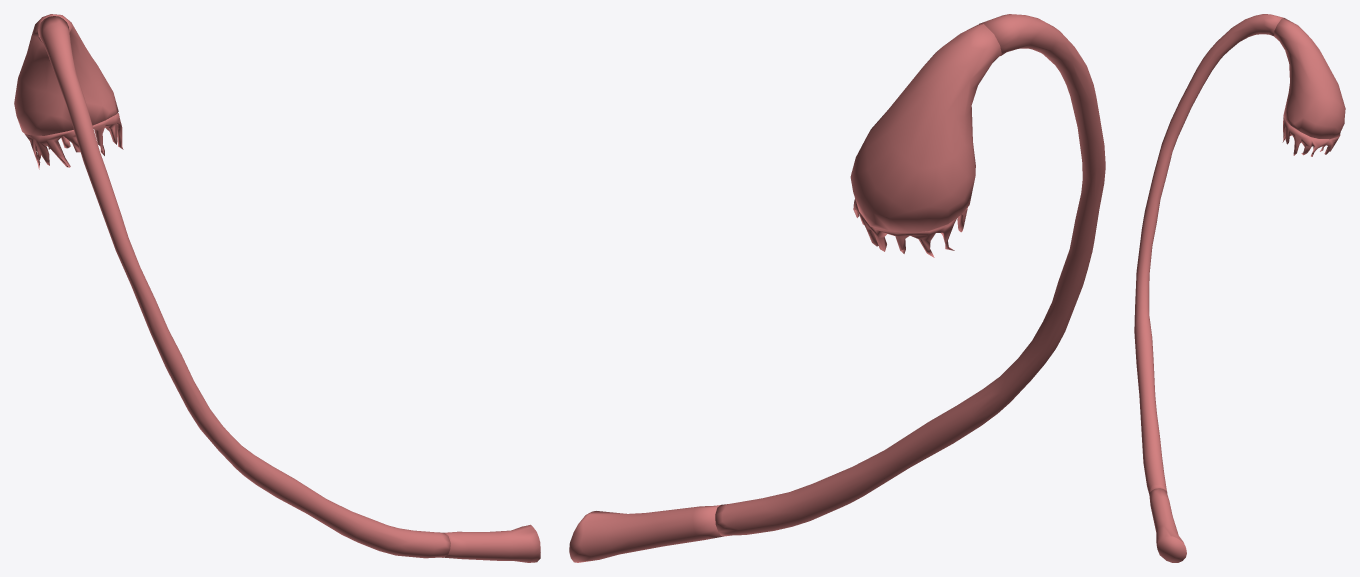
The model's file is 3d-vh-f-fallopian-tube-r_lod_20.glb.
3 views of the same model, side by side, from view 1: azimuth 30°, elevation 25°; view 2: azimuth 150°, elevation 25°; view 3: azimuth 270°, elevation 25° (orthographic). The views are drawn at different scales.
Visible parts, largest first — view 1: VH_F_ampulla_of_uterine_tube_R, VH_F_uterine_tube_infundibulum_R, VH_F_isthmus_of_fallopian_tube_R, VH_F_fibria_of_uterine_tube_R; view 2: VH_F_ampulla_of_uterine_tube_R, VH_F_uterine_tube_infundibulum_R, VH_F_isthmus_of_fallopian_tube_R, VH_F_fibria_of_uterine_tube_R; view 3: VH_F_ampulla_of_uterine_tube_R, VH_F_uterine_tube_infundibulum_R, VH_F_isthmus_of_fallopian_tube_R, VH_F_fibria_of_uterine_tube_R.
Part boxes in pixels (bbox=[...]): VH_F_ampulla_of_uterine_tube_R: bbox=[38, 16, 450, 558]; VH_F_uterine_tube_infundibulum_R: bbox=[14, 14, 118, 135]; VH_F_isthmus_of_fallopian_tube_R: bbox=[444, 524, 540, 562]; VH_F_fibria_of_uterine_tube_R: bbox=[25, 113, 123, 169]; VH_F_ampulla_of_uterine_tube_R: bbox=[715, 14, 1105, 536]; VH_F_uterine_tube_infundibulum_R: bbox=[850, 24, 1001, 232]; VH_F_isthmus_of_fallopian_tube_R: bbox=[569, 505, 723, 562]; VH_F_fibria_of_uterine_tube_R: bbox=[853, 199, 967, 257]; VH_F_ampulla_of_uterine_tube_R: bbox=[1134, 14, 1283, 494]; VH_F_uterine_tube_infundibulum_R: bbox=[1274, 18, 1345, 139]; VH_F_isthmus_of_fallopian_tube_R: bbox=[1149, 488, 1186, 562]; VH_F_fibria_of_uterine_tube_R: bbox=[1282, 117, 1340, 156].
Size of the model in its own units: 0.0344 by 0.0446 by 0.0209.
